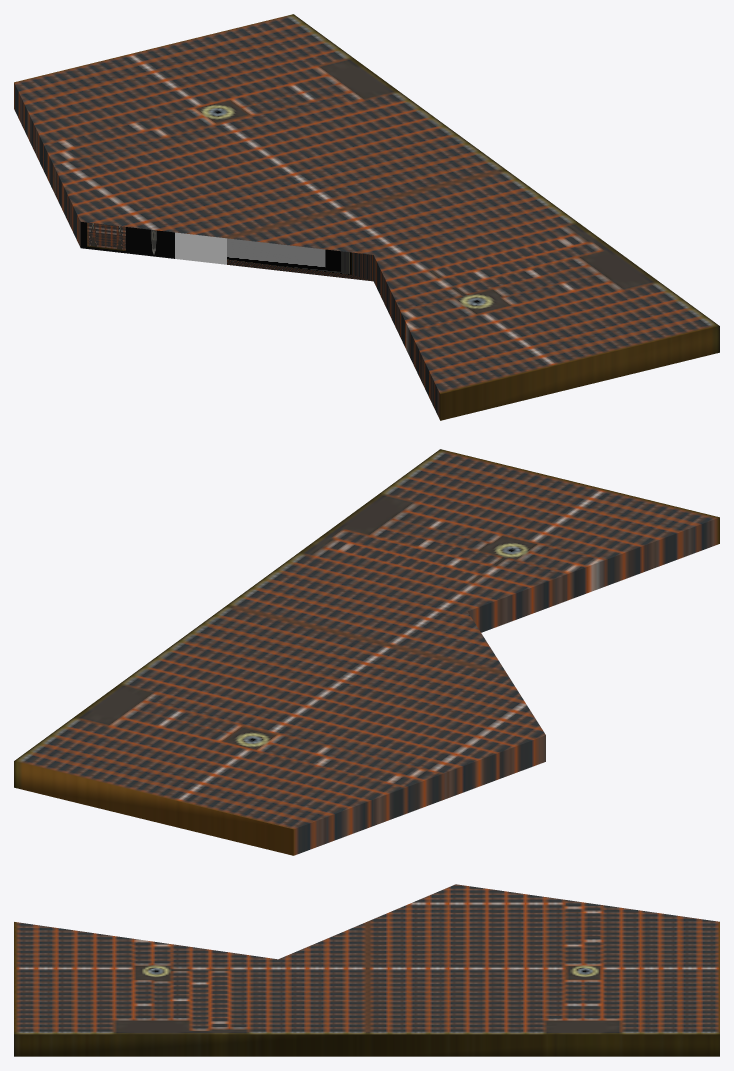
Rendered from solar_panel_2.fbx.
3 views of the same model, one above another, from view 1: azimuth 30°, elevation 25°; view 2: azimuth 150°, elevation 25°; view 3: azimuth 270°, elevation 25° (orthographic). The views are drawn at different scales.
Parts seen in each view (by area): view 1: solar_panel_2; view 2: solar_panel_2; view 3: solar_panel_2.
Part boxes in pixels (<box>): solar_panel_2: <box>14,14,719,420</box>; solar_panel_2: <box>14,449,719,855</box>; solar_panel_2: <box>14,884,719,1056</box>.
Size of the model in its own units: 129 by 8.76 by 256.
